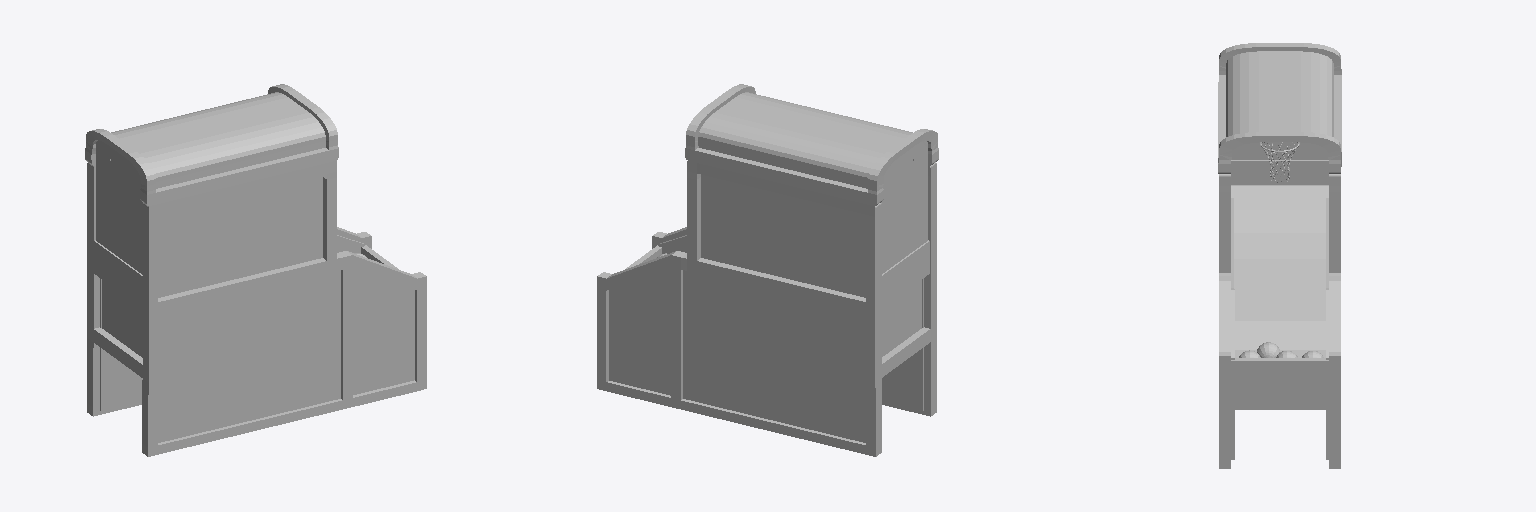
The model's file is HoopsArcade.obj.
3 views of the same model, side by side, from view 1: azimuth 30°, elevation 25°; view 2: azimuth 150°, elevation 25°; view 3: azimuth 270°, elevation 25° (orthographic).
Parts seen in each view (by area): view 1: Cube.006, Cube.001_Cube.002, Cube.007; view 2: Cube.006, Cube.001_Cube.002, Cube.007; view 3: Cube.006, Cube.001_Cube.002, Cube.007, Sphere.000_Sphere.003.
Part boxes in pixels (left/top/right/bottom): Cube.006: left=94, top=140, right=414, bottom=442; Cube.001_Cube.002: left=85, top=84, right=426, bottom=456; Cube.007: left=111, top=92, right=325, bottom=297; Cube.006: left=609, top=140, right=929, bottom=442; Cube.001_Cube.002: left=597, top=84, right=938, bottom=456; Cube.007: left=698, top=92, right=912, bottom=297; Cube.006: left=1231, top=142, right=1328, bottom=459; Cube.001_Cube.002: left=1218, top=43, right=1341, bottom=468; Cube.007: left=1226, top=51, right=1333, bottom=136; Sphere.000_Sphere.003: left=1239, top=342, right=1323, bottom=357.
Size of the model in its own units: 145 by 144 by 55.52.